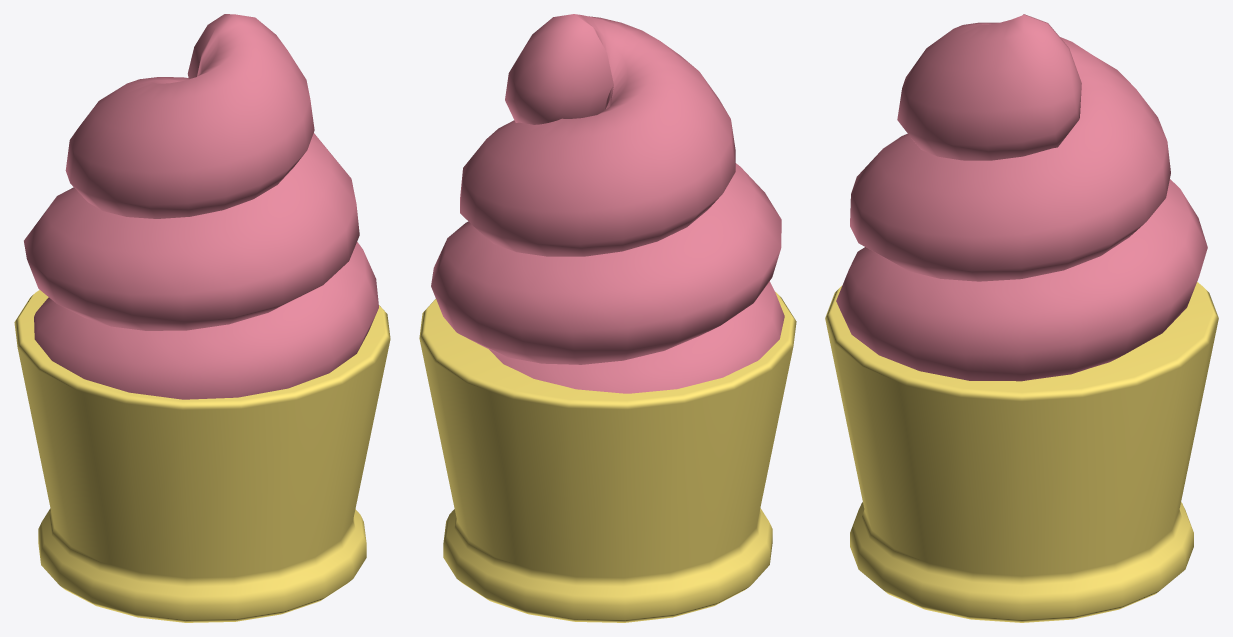
The model's file is Cake.glb.
The picture shows the model from 3 angles, left to right: view 1: azimuth 30°, elevation 25°; view 2: azimuth 150°, elevation 25°; view 3: azimuth 270°, elevation 25°; orthographic projection. The views are drawn at different scales.
Parts seen in each view (by area): view 1: Cake_1; view 2: Cake_1; view 3: Cake_1.
Part boxes in pixels (<box>): Cake_1: <box>14,14,390,622</box>; Cake_1: <box>419,14,796,622</box>; Cake_1: <box>825,14,1218,622</box>.
Bounding box in the file's own units: 0.1751 × 0.2723 × 0.1751.
Materials: 1 (1 with a texture image).
